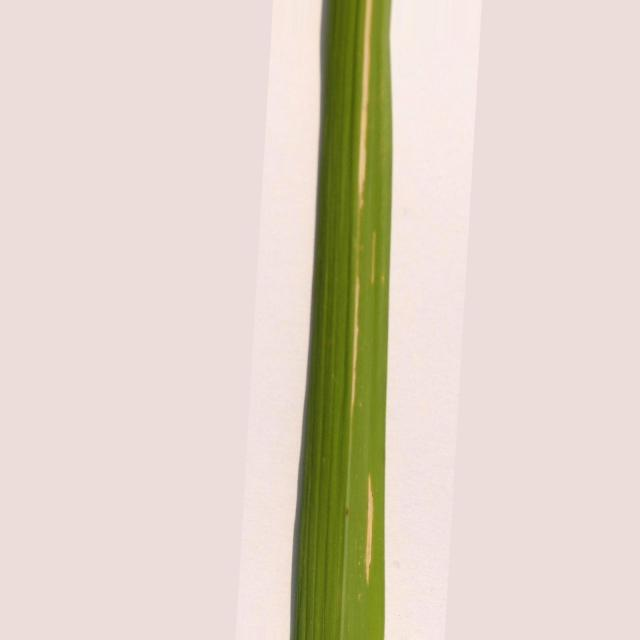Bacterial_Leaf_Blight: (344, 274, 361, 449), (358, 0, 372, 209), (365, 475, 374, 583)
